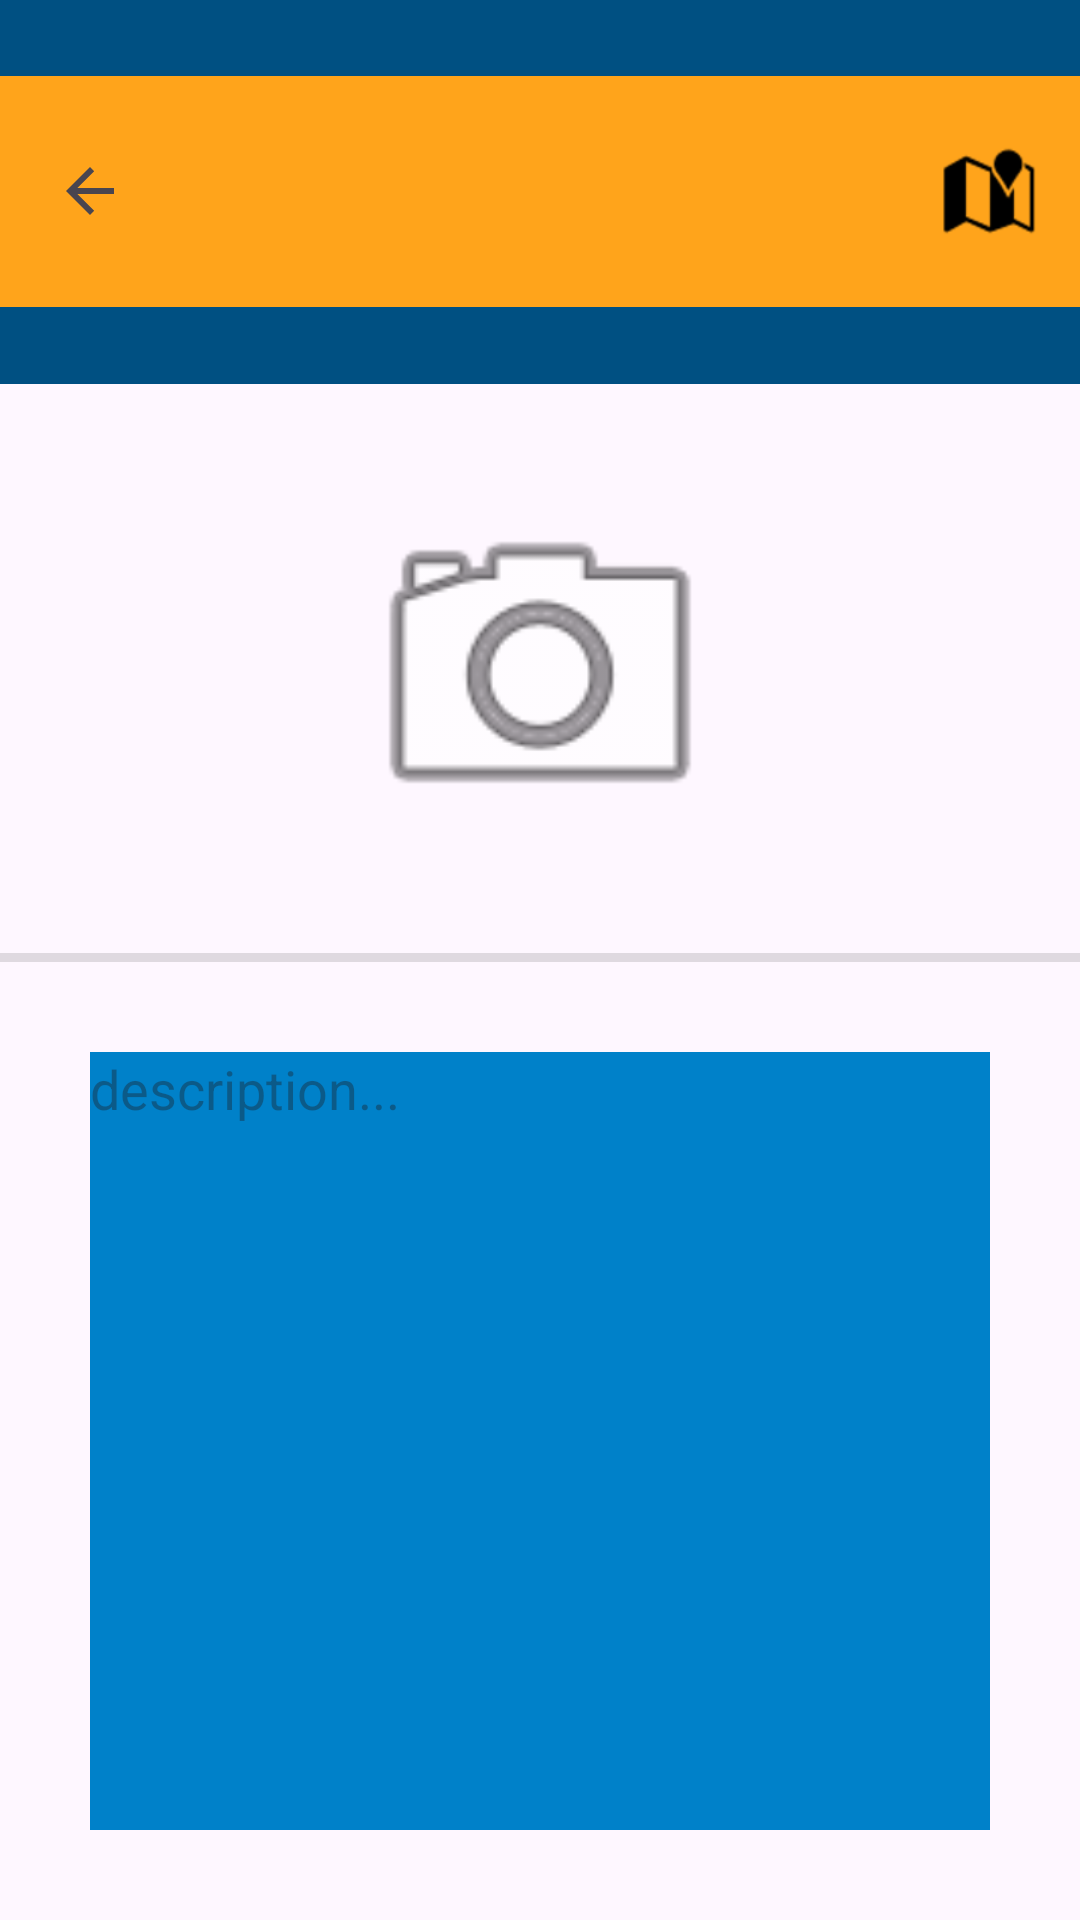

Icon bounding boxes for this 1080px x 1920px phone screenshot, format bbox=(x1, y1, x2, y2):
camera: bbox=(389, 542, 691, 782)
map: bbox=(943, 148, 1035, 233)
